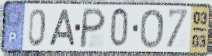0: (109, 6, 131, 51), (27, 8, 48, 48)
7: (166, 8, 190, 51)
A: (46, 8, 77, 48)
O: (139, 8, 165, 50)
P: (77, 7, 108, 50)
